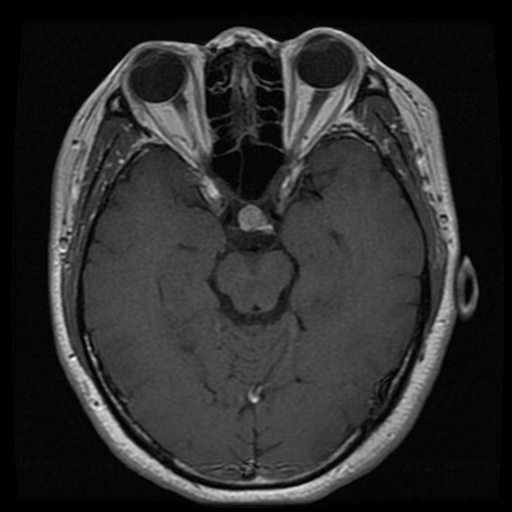pituitary: (239, 205, 266, 227)
